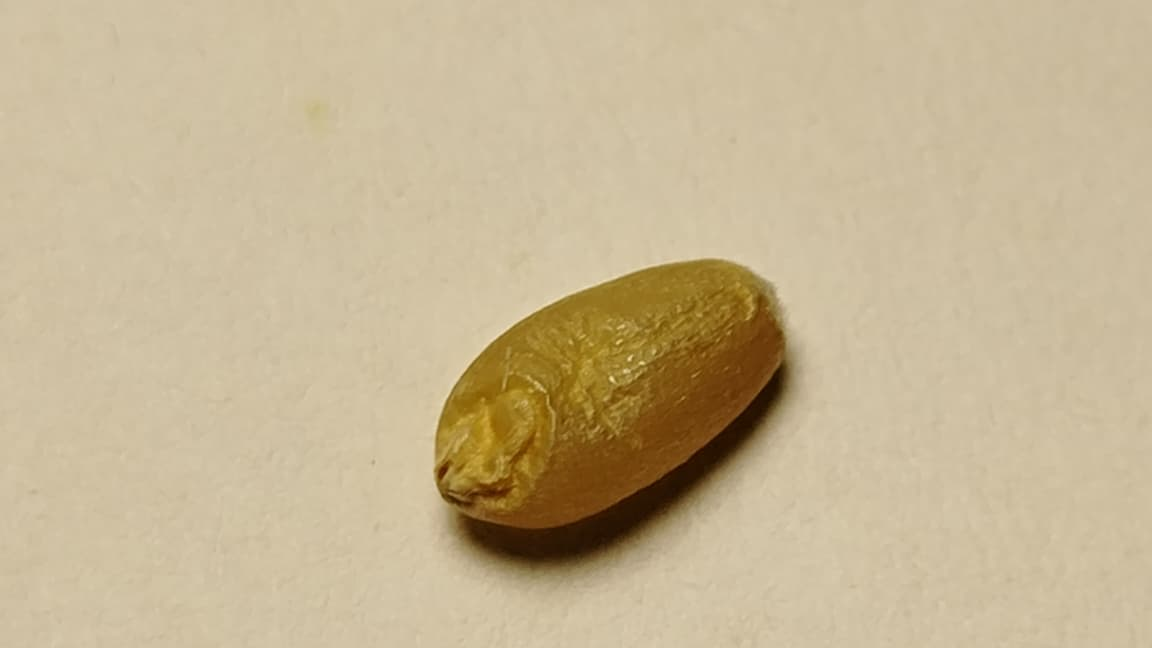healthy: (435, 259, 783, 524)
